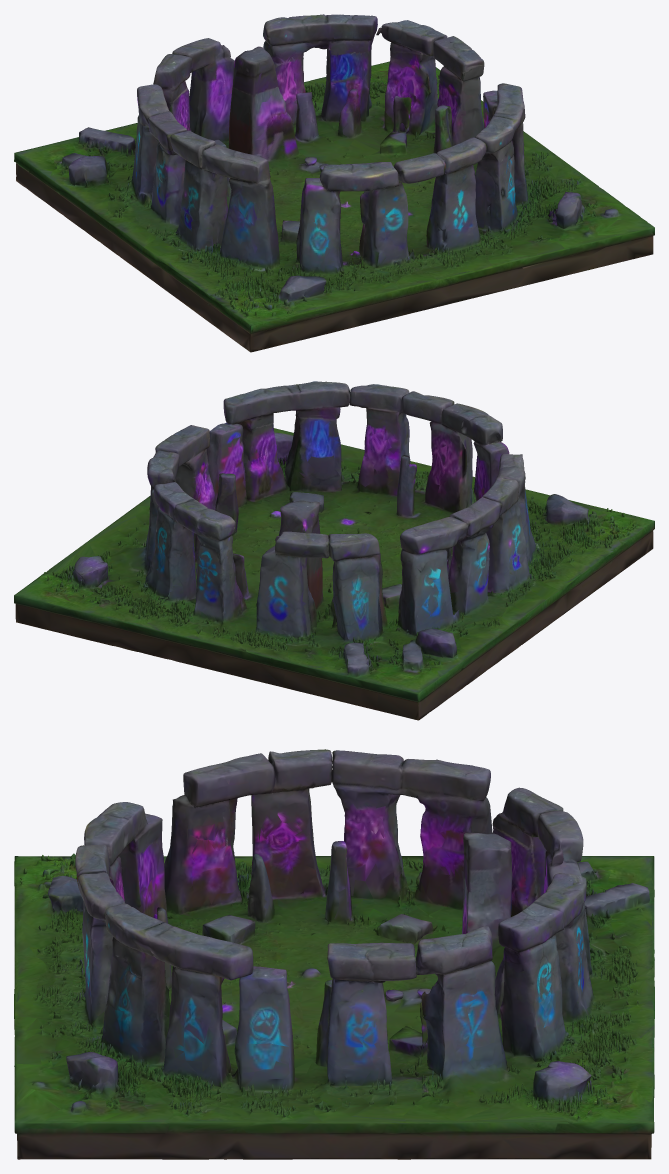
Rendered from England_Mystic_Ston.glb.
The picture shows the model from 3 angles, top to bottom: view 1: azimuth 30°, elevation 25°; view 2: azimuth 150°, elevation 25°; view 3: azimuth 270°, elevation 25°; orthographic projection. The views are drawn at different scales.
Visible parts, largest first — view 1: England_Mystic_Ston; view 2: England_Mystic_Ston; view 3: England_Mystic_Ston.
Part boxes in pixels (left/top/right/bottom): England_Mystic_Ston: left=14, top=14, right=654, bottom=352; England_Mystic_Ston: left=14, top=381, right=654, bottom=720; England_Mystic_Ston: left=14, top=749, right=654, bottom=1159.
Size of the model in its own units: 1.98 by 0.5955 by 2.
Materials: 1 (1 with a texture image).
